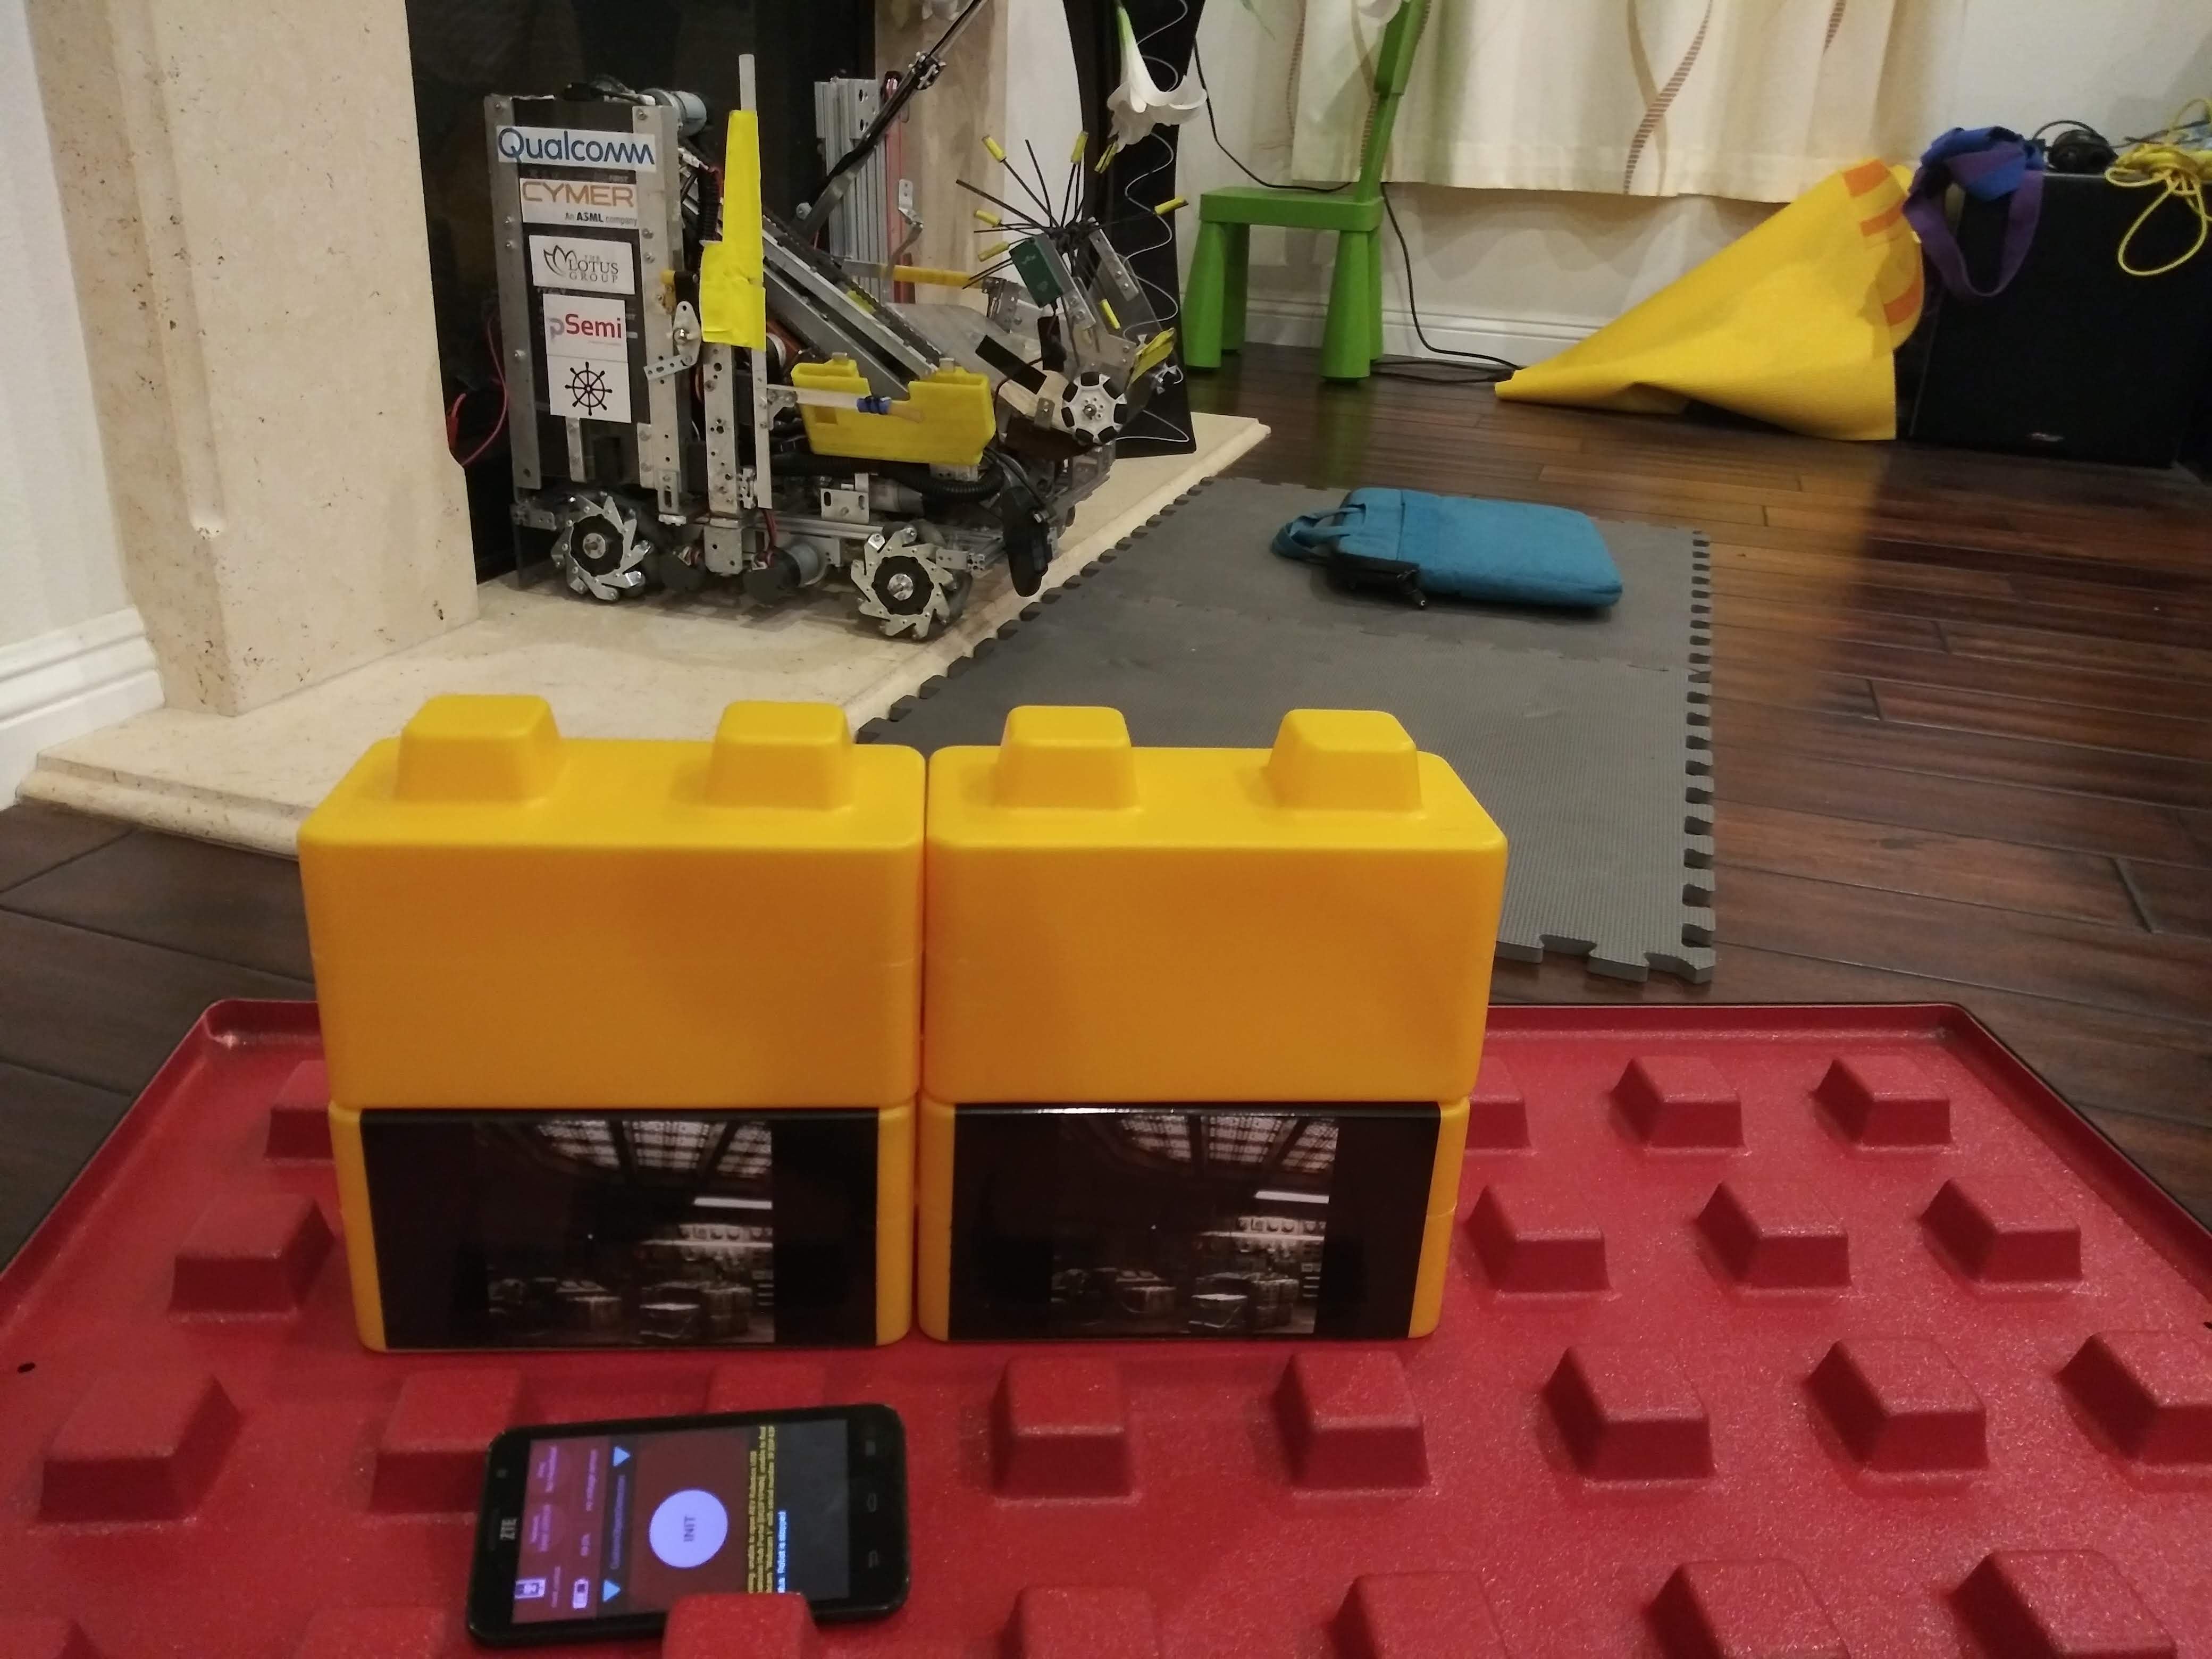skystone: (934, 1110, 1465, 1389), (326, 1105, 892, 1358)
stone: (277, 727, 913, 1086), (954, 746, 1507, 1080)
